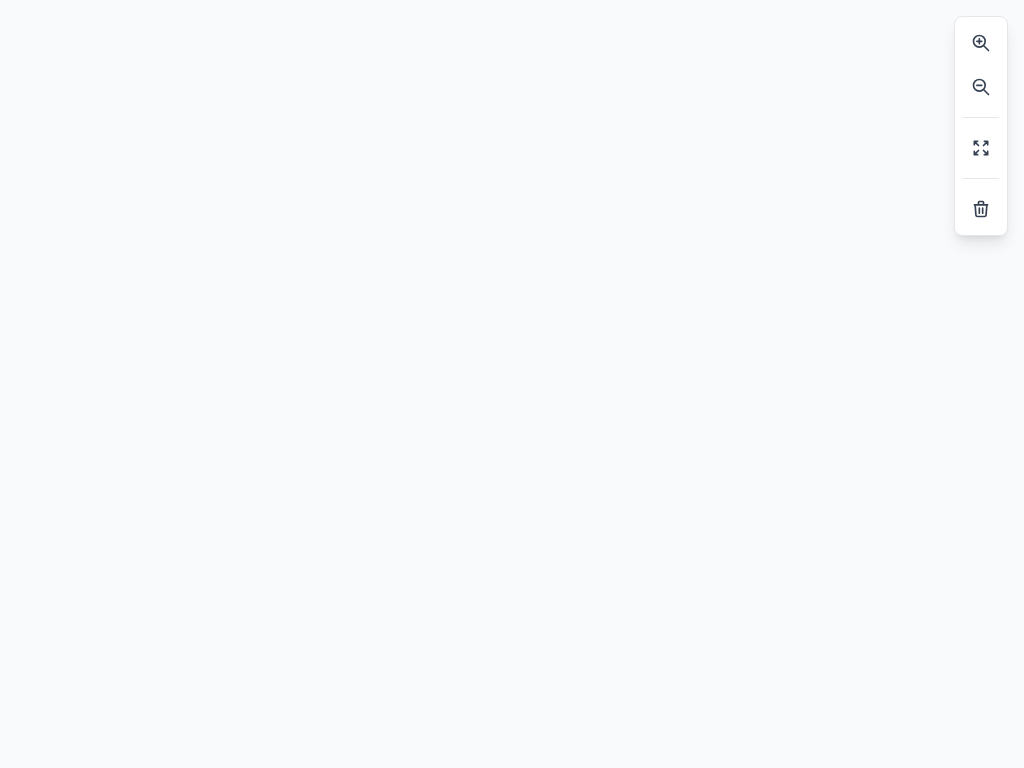
Test: CanvasControls › should cancel clear workflow when cancel is clicked
Click the button named "Clear Workflow". click: {"x": 981, "y": 209}
box: [963, 191, 999, 227]
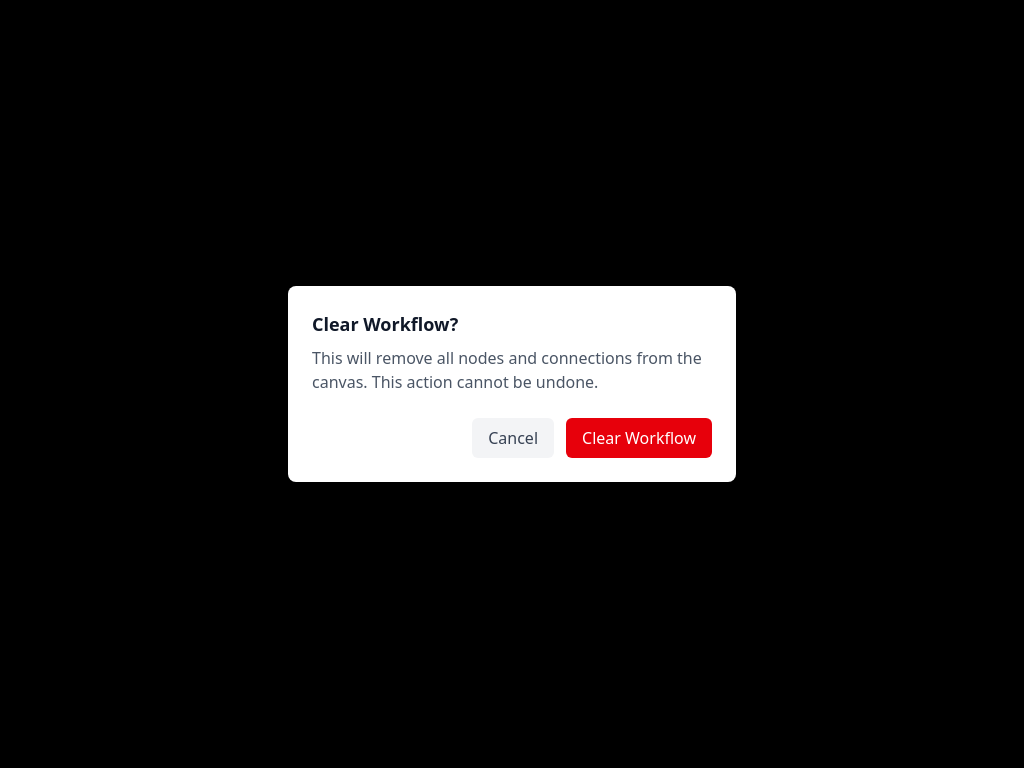
Click the button "Cancel". click: {"x": 513, "y": 438}
box: [472, 418, 554, 458]
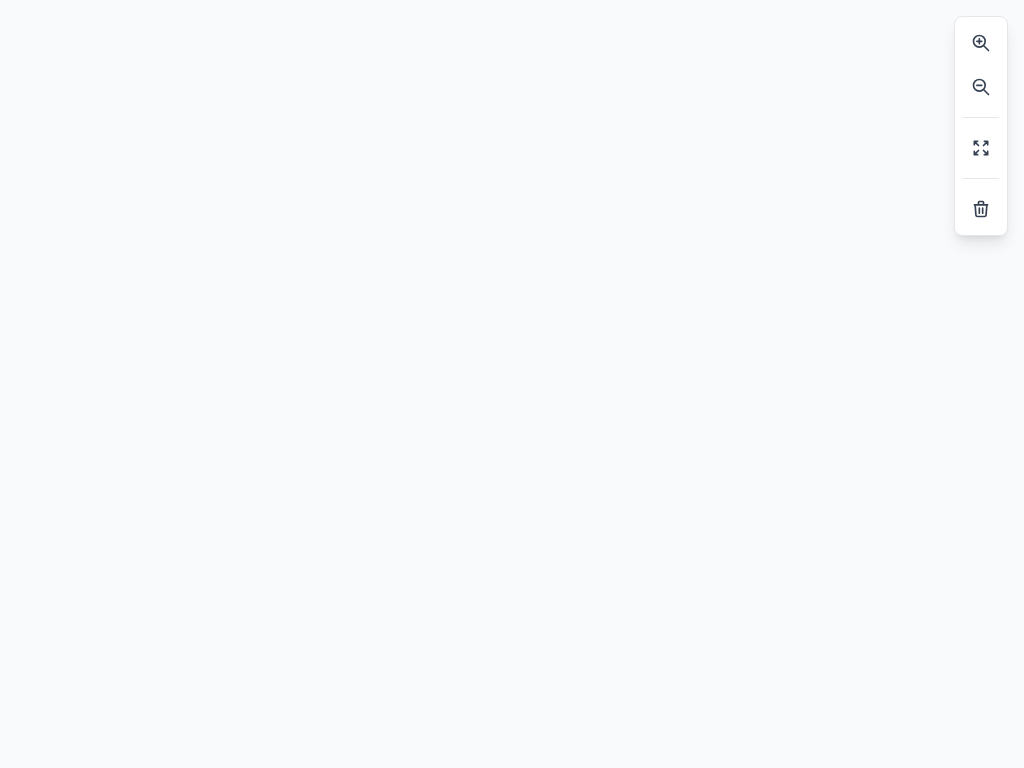
Check: the heading "Clear Workflow?" is gone
